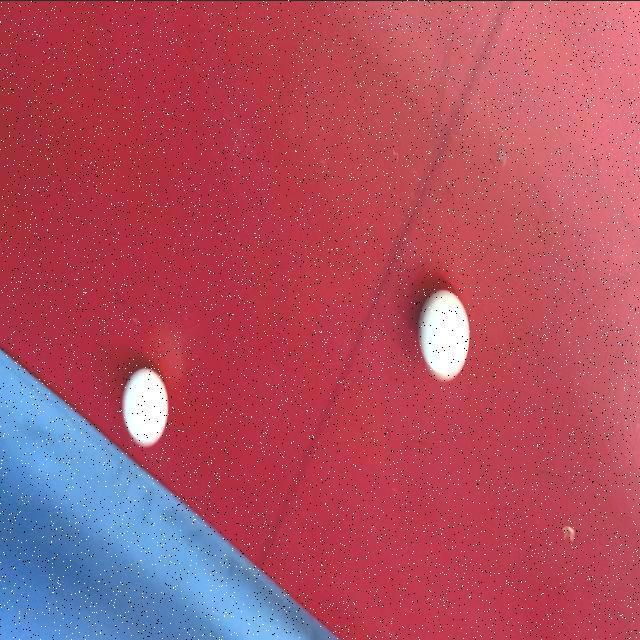ping-pong-ball: (410, 272, 482, 401), (114, 350, 178, 454)
